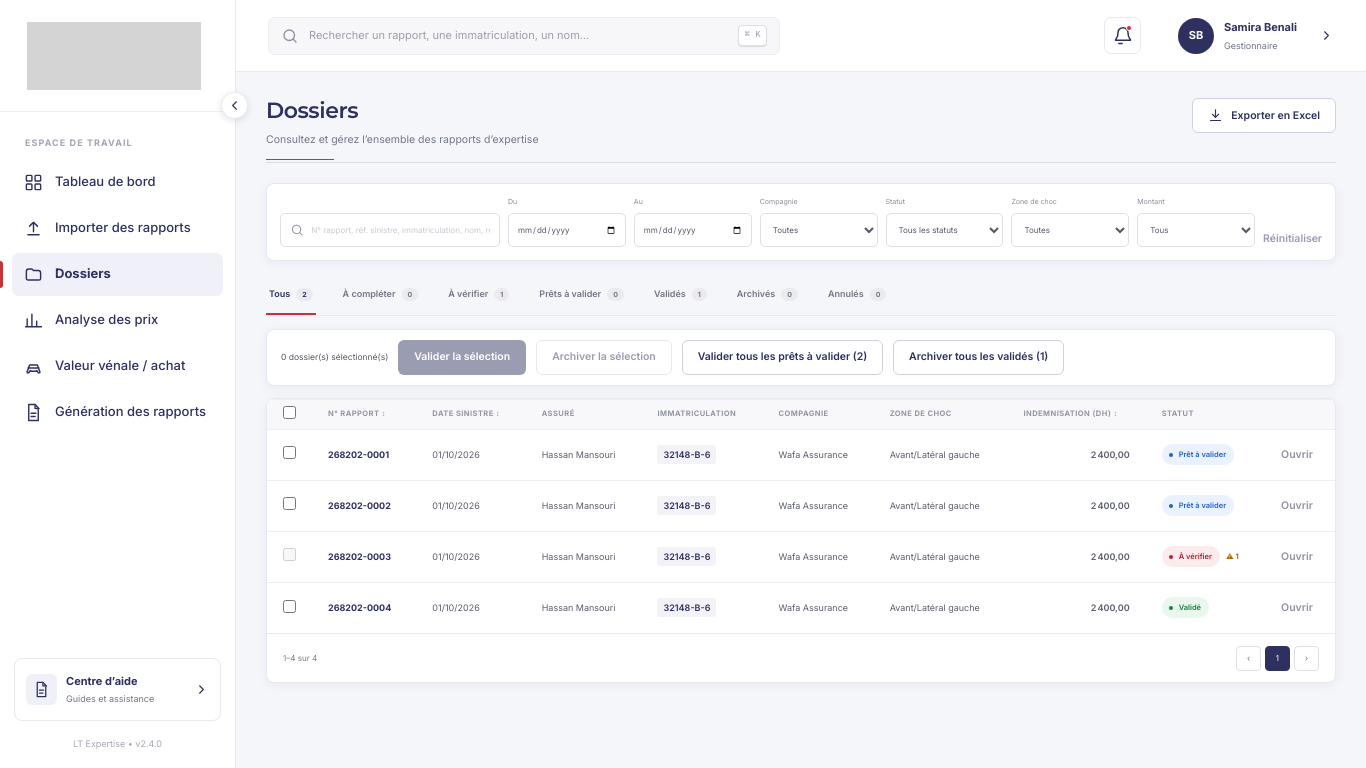
Test case: validation en lot › archive les dossiers validés cochés, sans envoyer les prêts
This screenshot has width=1366, height=768.
Click the checkbox named "Cocher 268202-0001". click: (290, 453)
box: [283,446,296,459]
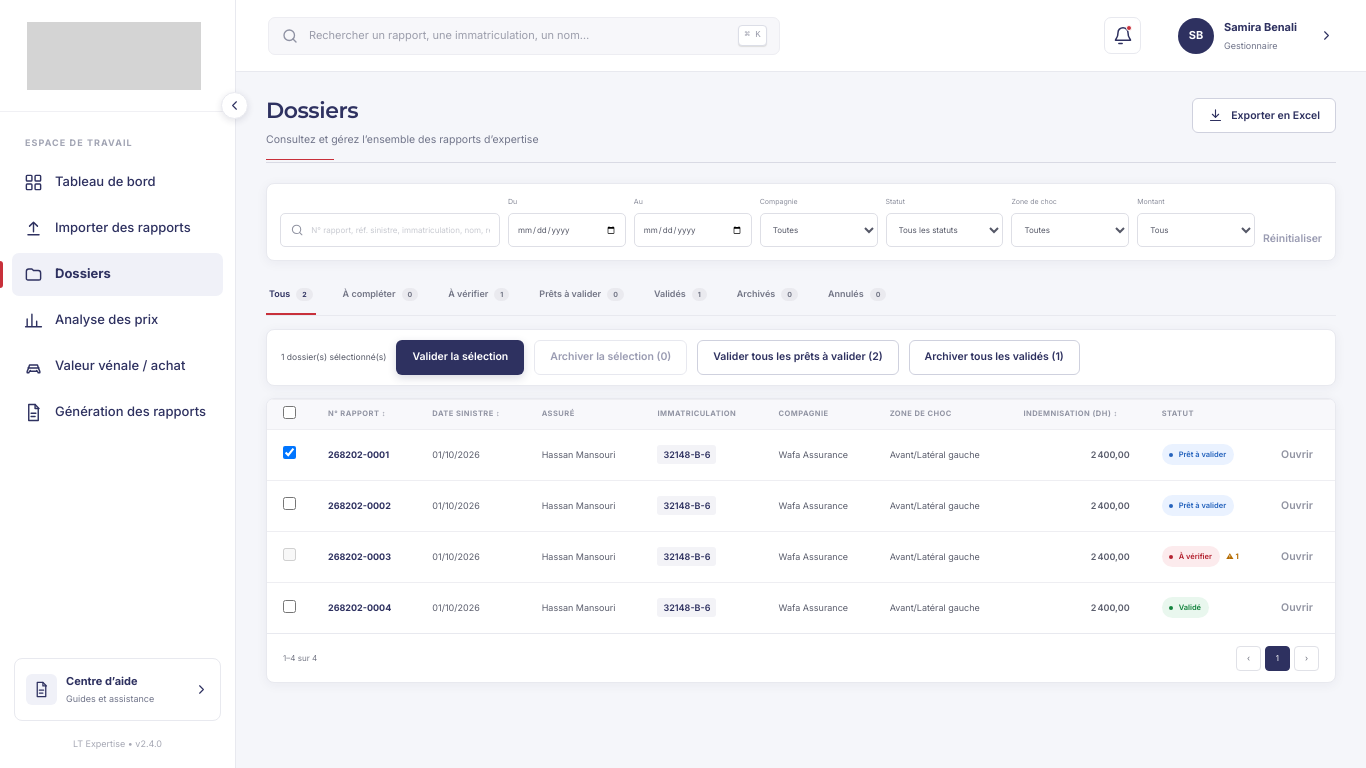
Click the checkbox named "Cocher 268202-0004". click: (290, 606)
box: [283,600,296,612]
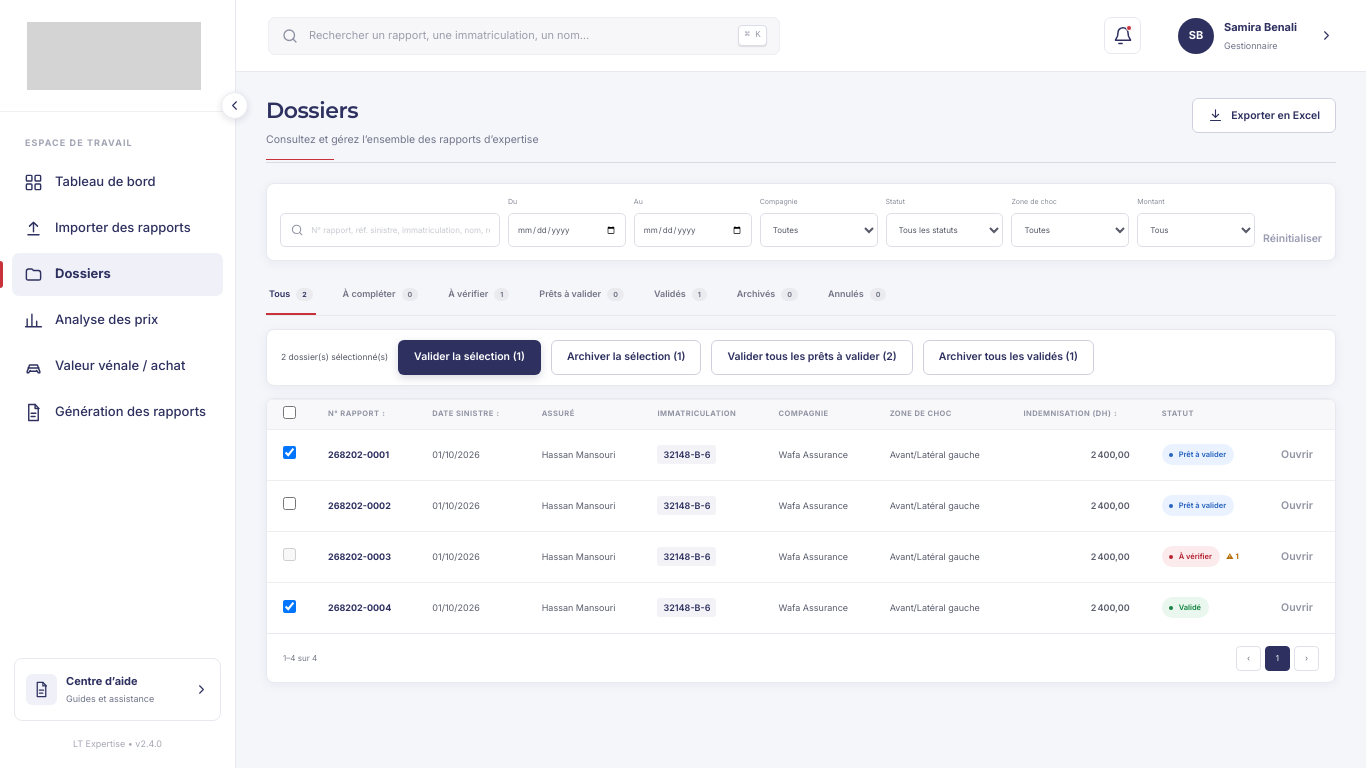
Click the button "Archiver la sélection (1)". click: (626, 357)
box: [551,340,701,374]
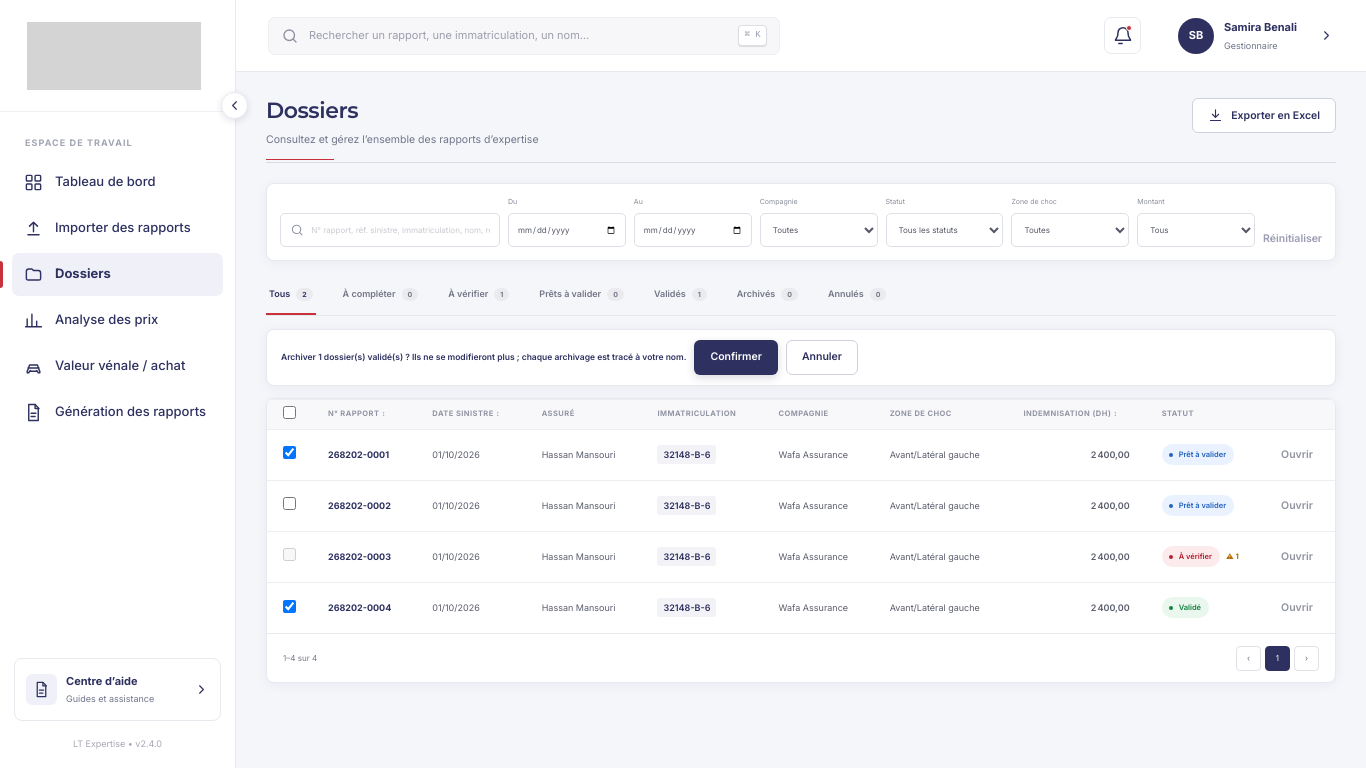
Now the text "Archiver 1 dossier(s) validé(s) ?" is shown, box [281,352,686,362]
Click the button "Confirmer". click: (736, 357)
box: [694,340,778,374]
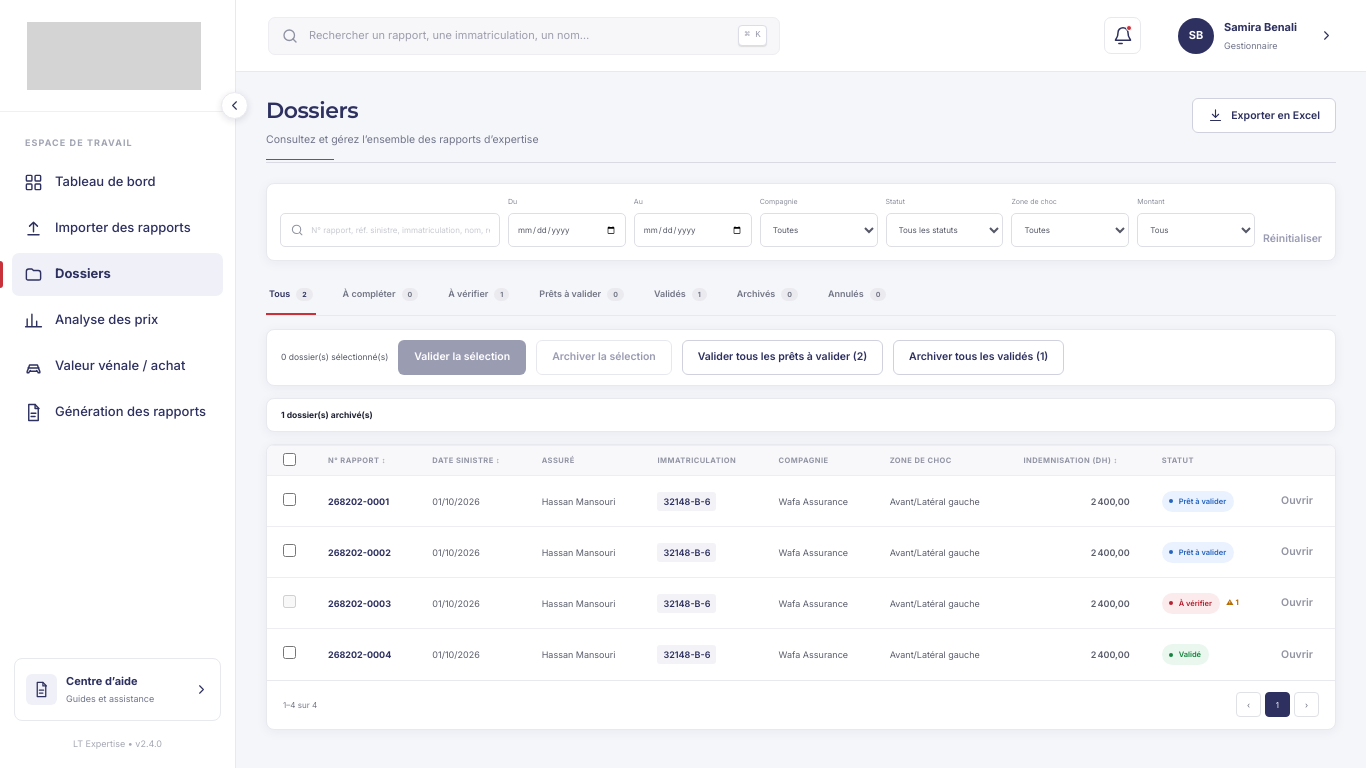
Now the text "1 dossier(s) archivé(s)" is shown, box [281,410,373,420]
